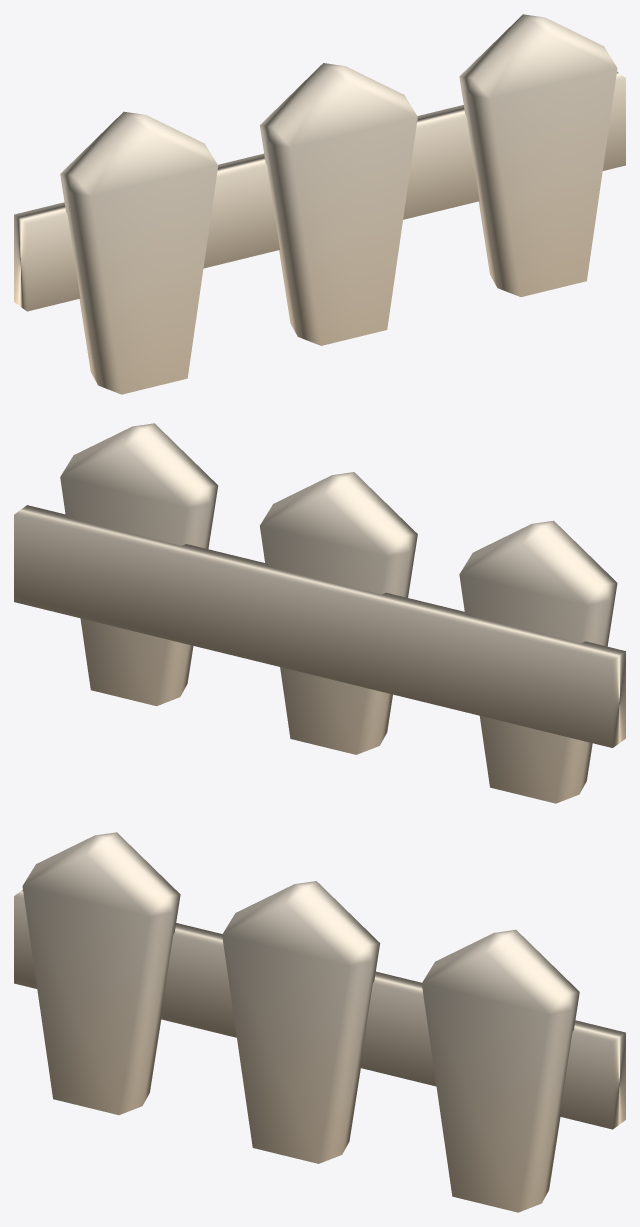
The model's file is Furniture_Ornament_40.fbx.
3 renders of one model, top to bottom at view 1: azimuth 30°, elevation 25°; view 2: azimuth 150°, elevation 25°; view 3: azimuth 330°, elevation 25°, orthographic.
Parts seen in each view (by area): view 1: Furniture_Ornament_40; view 2: Furniture_Ornament_40; view 3: Furniture_Ornament_40.
Boxes of the visible parts, x1,y1,x2,y2 form: Furniture_Ornament_40: (14, 14, 625, 394); Furniture_Ornament_40: (14, 423, 625, 803); Furniture_Ornament_40: (14, 832, 625, 1212).
Bounding box in the file's own units: 150 × 61.98 × 17.74.
